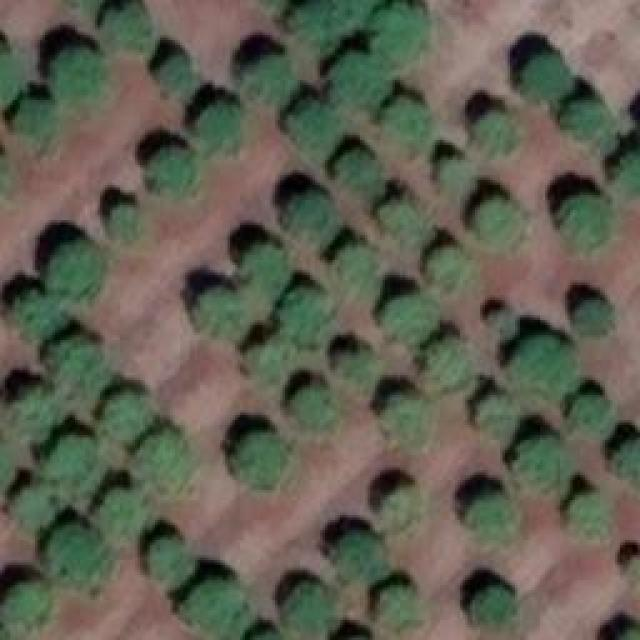Tree: (48, 523, 111, 586), (328, 53, 393, 113), (180, 580, 245, 640), (507, 333, 575, 388), (370, 3, 428, 66), (43, 333, 103, 393), (193, 285, 253, 343), (52, 50, 110, 108), (235, 430, 290, 490), (135, 432, 188, 490), (288, 100, 343, 155), (48, 240, 103, 295), (283, 288, 333, 348), (40, 435, 98, 485), (515, 435, 568, 488), (332, 532, 390, 580), (242, 240, 290, 298), (420, 340, 473, 390), (287, 0, 345, 45), (103, 0, 156, 48), (10, 290, 63, 338), (562, 195, 610, 248), (388, 295, 438, 343), (523, 52, 573, 100), (335, 245, 380, 298), (145, 150, 200, 193), (382, 392, 430, 440), (285, 190, 333, 238), (425, 245, 473, 293), (385, 98, 428, 151), (285, 385, 335, 430), (478, 198, 523, 248), (288, 582, 333, 630), (380, 585, 425, 633), (465, 493, 518, 533), (95, 490, 143, 533), (5, 580, 53, 623), (565, 490, 608, 538), (562, 100, 610, 143), (195, 105, 240, 150), (250, 55, 295, 100), (105, 393, 150, 438), (338, 148, 383, 193), (10, 98, 60, 138), (10, 387, 50, 435), (470, 585, 520, 623), (380, 198, 423, 241), (248, 335, 288, 380), (335, 348, 380, 388), (573, 390, 613, 435), (475, 113, 515, 158), (13, 485, 53, 528), (570, 295, 613, 335), (435, 158, 478, 198), (382, 483, 420, 528), (607, 437, 640, 484), (475, 393, 515, 428), (148, 537, 183, 575), (610, 153, 640, 196), (160, 52, 190, 90), (0, 43, 18, 106), (485, 308, 518, 341), (110, 205, 138, 235), (0, 438, 15, 491)
